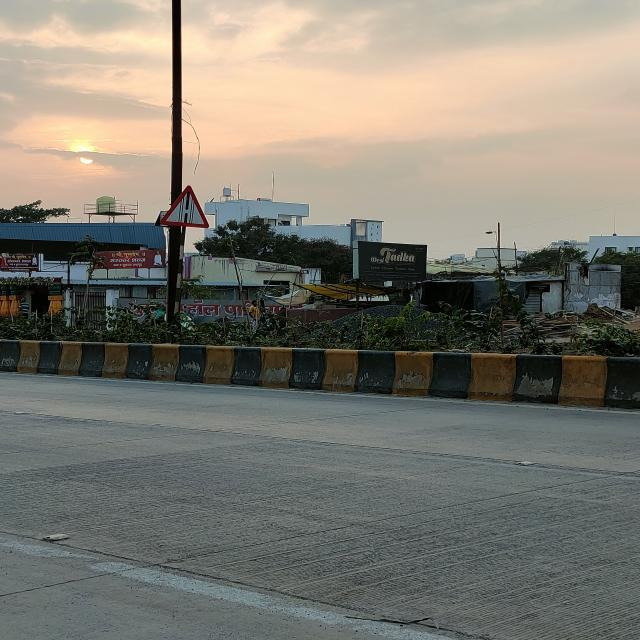gap in median: (158, 184, 213, 230)
